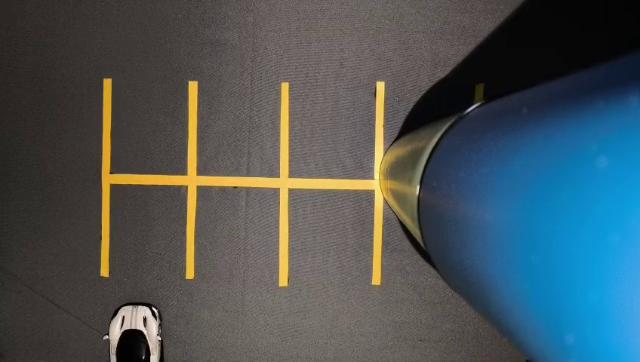toy_car: (95, 282, 190, 362)
